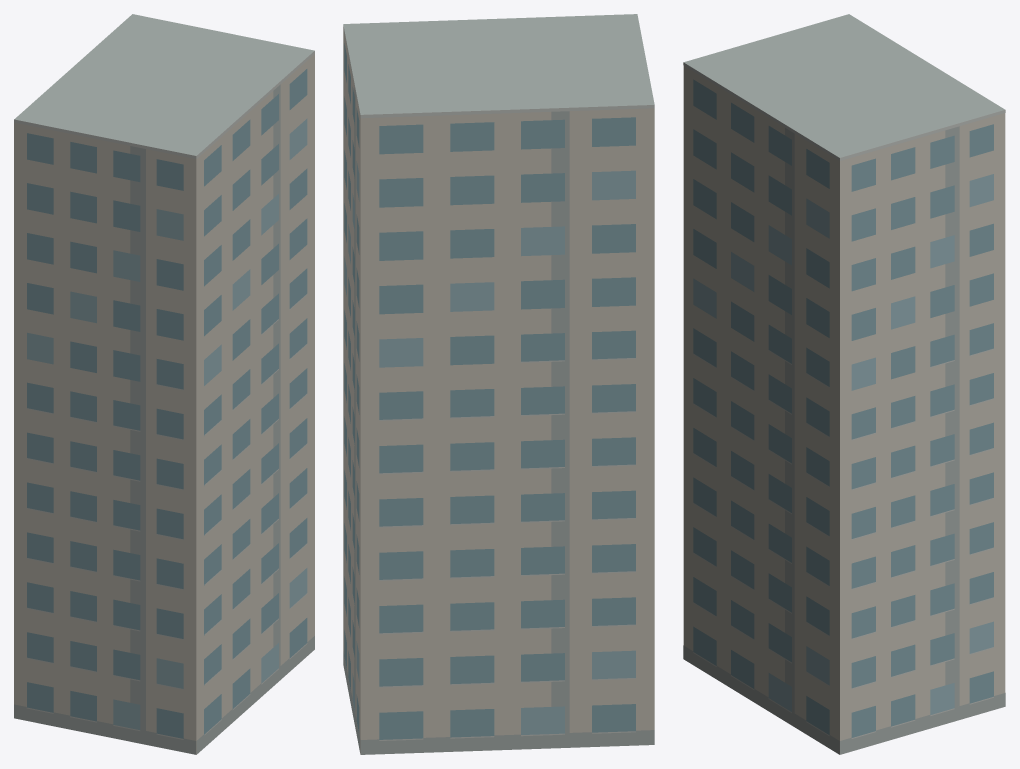
File: residential-453a9c14-fa47-431e-9cbe-53a1cb4279a8.glb
3 views of the same model, side by side, from view 1: azimuth 30°, elevation 25°; view 2: azimuth 150°, elevation 25°; view 3: azimuth 270°, elevation 25° (orthographic). The views are drawn at different scales.
Parts seen in each view (by area): view 1: residential-453a9c14-fa47-431e-9cbe-53a1cb4279a8.tmp; view 2: residential-453a9c14-fa47-431e-9cbe-53a1cb4279a8.tmp; view 3: residential-453a9c14-fa47-431e-9cbe-53a1cb4279a8.tmp.
Part boxes in pixels (x1,y1,x2,y2): residential-453a9c14-fa47-431e-9cbe-53a1cb4279a8.tmp: (14, 14, 314, 754); residential-453a9c14-fa47-431e-9cbe-53a1cb4279a8.tmp: (343, 14, 654, 754); residential-453a9c14-fa47-431e-9cbe-53a1cb4279a8.tmp: (683, 14, 1005, 754).
Size of the model in its own units: 23.81 by 46 by 22.5.
